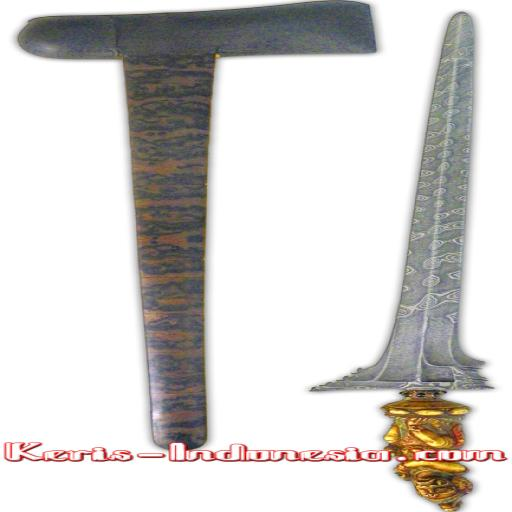Axe: (16, 0, 380, 452)
